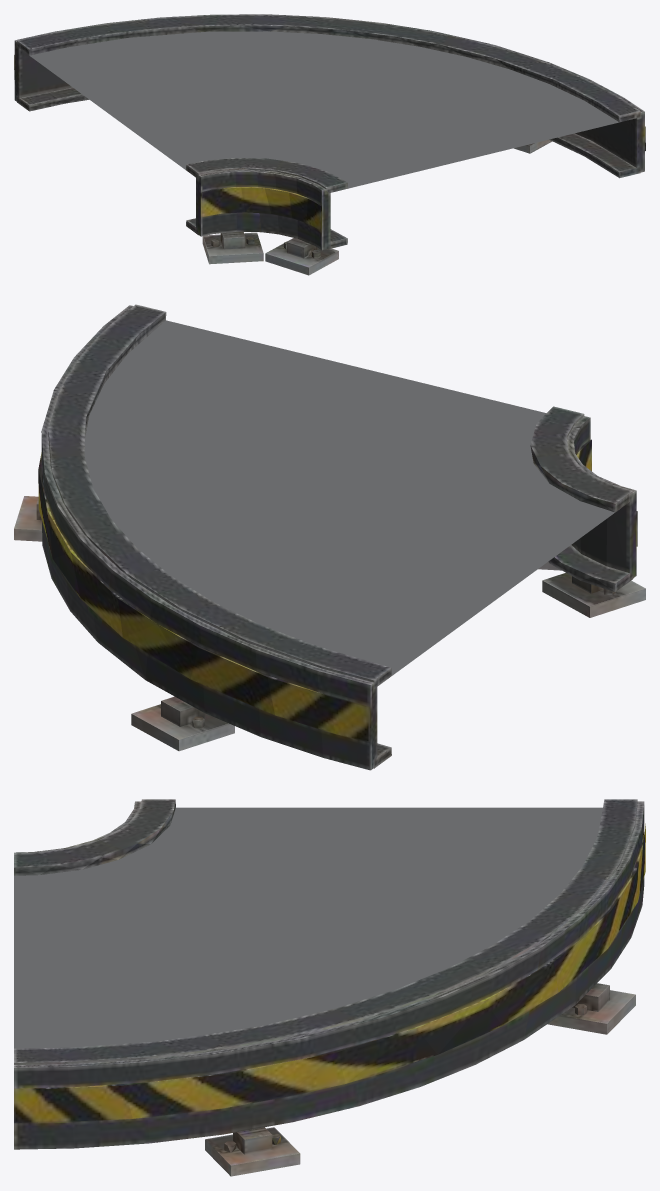
File: esteira_curva_esq.glb
The picture shows the model from 3 angles, top to bottom: view 1: azimuth 30°, elevation 25°; view 2: azimuth 150°, elevation 25°; view 3: azimuth 270°, elevation 25°; orthographic projection. The views are drawn at different scales.
Visible parts, largest first — view 1: esteira_curva_esq_corpo; view 2: esteira_curva_esq_corpo; view 3: esteira_curva_esq_corpo.
Part boxes in pixels (bbox=[...]): esteira_curva_esq_corpo: bbox=[14, 14, 645, 275]; esteira_curva_esq_corpo: bbox=[14, 304, 645, 770]; esteira_curva_esq_corpo: bbox=[14, 799, 645, 1176].
Bounding box in the file's own units: 0.841 × 0.168 × 0.841.
Materials: 2 (1 with a texture image).
